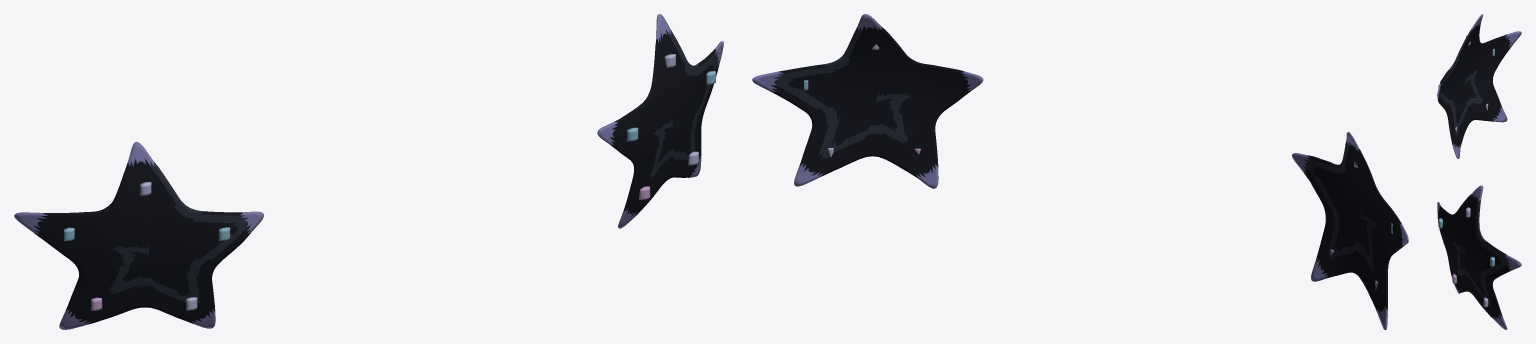
The model's file is Feminine-bandeau-top.glb.
The picture shows the model from 3 angles, left to right: view 1: azimuth 30°, elevation 25°; view 2: azimuth 150°, elevation 25°; view 3: azimuth 270°, elevation 25°; orthographic projection. The views are drawn at different scales.
Visible parts, largest first — view 1: Top / star pastie192 -1, Top / star pastie192 1; view 2: Top / star pastie192 1, Top / star pastie192 -1; view 3: Top / star pastie192 -1, Top / star pastie192 1.
Boxes of the visible parts, x1,y1,x2,y2 form: Top / star pastie192 -1: (14,141,263,329); Top / star pastie192 1: (597,14,723,228); Top / star pastie192 1: (752,14,983,188); Top / star pastie192 -1: (1292,132,1408,329); Top / star pastie192 -1: (1437,14,1521,158); Top / star pastie192 1: (1437,185,1521,329).
Size of the model in its own units: 0.4194 by 0.1061 by 0.0644.
